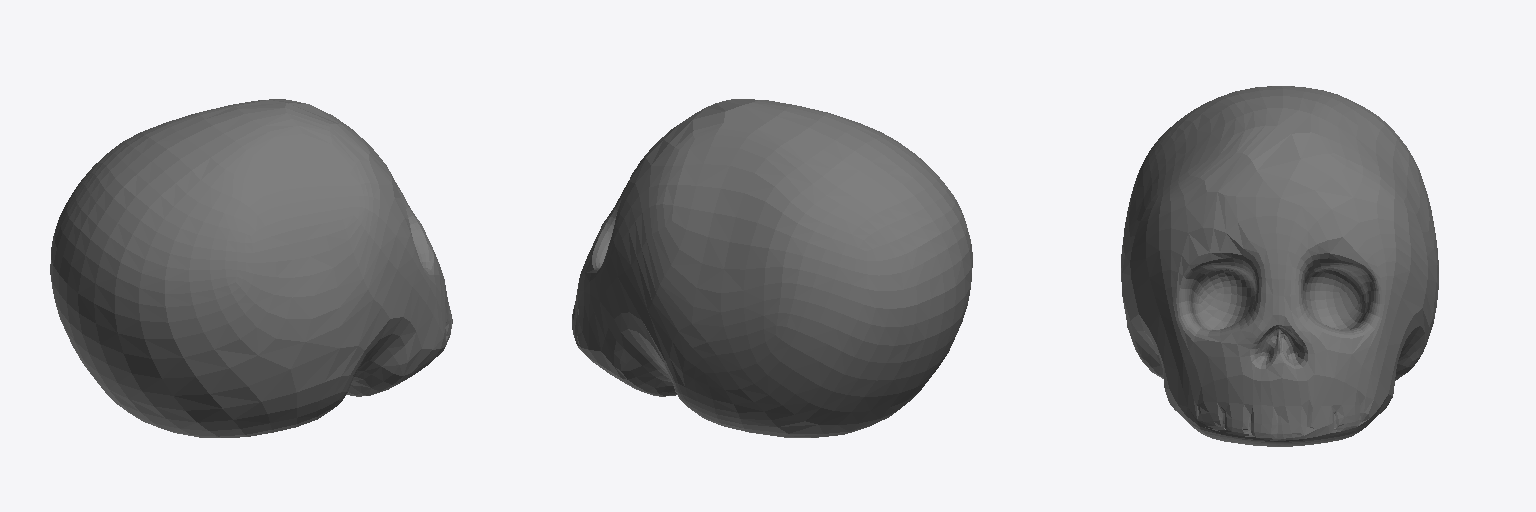
File: Skull.obj
3 renders of one model, left to right at view 1: azimuth 30°, elevation 25°; view 2: azimuth 150°, elevation 25°; view 3: azimuth 270°, elevation 25°, orthographic.
Parts seen in each view (by area): view 1: SKULL:Mesh; view 2: SKULL:Mesh; view 3: SKULL:Mesh.
Part boxes in pixels (left/top/right/bottom): SKULL:Mesh: left=50, top=99, right=452, bottom=437; SKULL:Mesh: left=572, top=99, right=972, bottom=437; SKULL:Mesh: left=1121, top=86, right=1438, bottom=446.
Size of the model in its own units: 25.78 by 19.3 by 19.46.